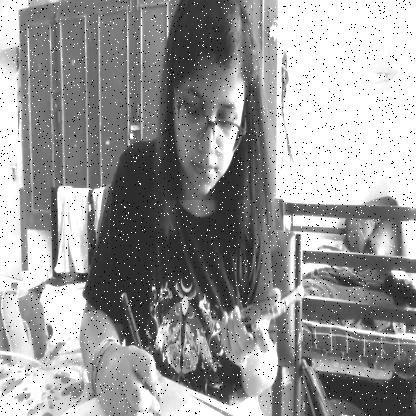Normal: (167, 0, 253, 200)
